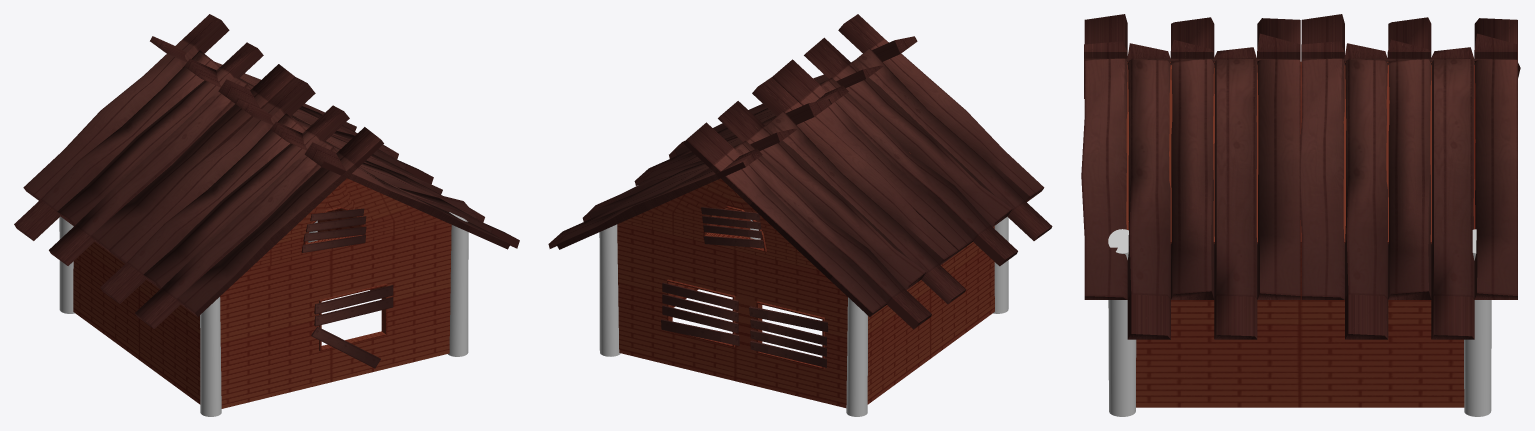
Rendered from lvl1_house.fbx.
3 views of the same model, side by side, from view 1: azimuth 30°, elevation 25°; view 2: azimuth 150°, elevation 25°; view 3: azimuth 270°, elevation 25° (orthographic). The views are drawn at different scales.
Visible parts, largest first — view 1: Cylinder.003; view 2: Cylinder.003; view 3: Cylinder.003.
Part boxes in pixels (<box>): Cylinder.003: <box>14,14,519,416</box>; Cylinder.003: <box>548,14,1052,416</box>; Cylinder.003: <box>1081,14,1520,416</box>.
Bounding box in the file's own units: 449 × 292 × 364.
